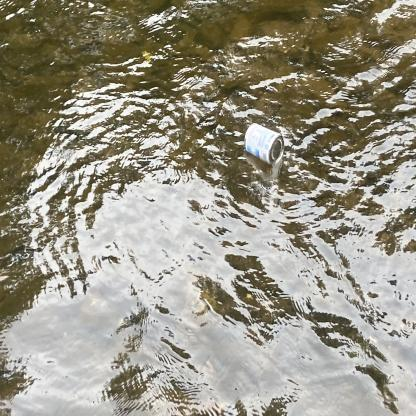trash: (239, 118, 288, 170)
